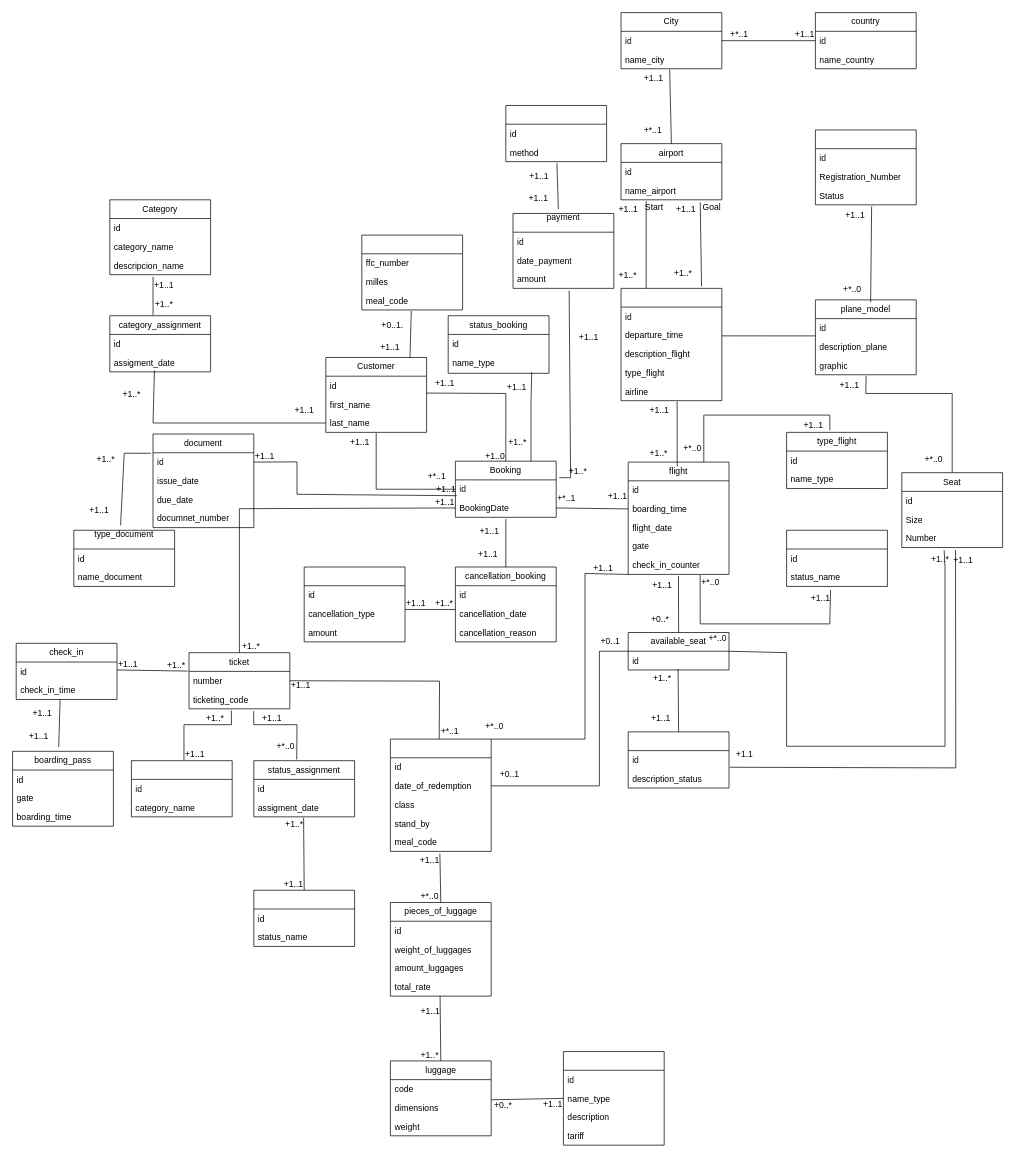
This 1015x1160 diagram has some shape labels left out. Here are the shapes that lost their labels. From the top down, the box of each, then its label:
(505, 105, 607, 162): payment_method
(815, 129, 916, 205): Airplane
(361, 234, 463, 310): frequent_flyer_card
(620, 288, 722, 401): flight_number
(786, 530, 887, 586): status_flight
(303, 566, 405, 642): penalty_cancellation
(627, 731, 729, 788): status_FT
(131, 760, 232, 817): ticket_category
(390, 738, 491, 851): coupon
(253, 890, 355, 946): status_ticket
(563, 1051, 664, 1145): type_of_luggages
